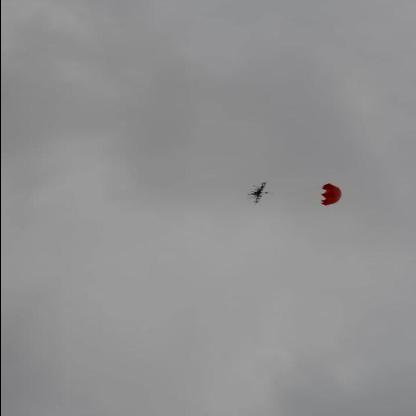drone: (244, 183, 268, 204)
